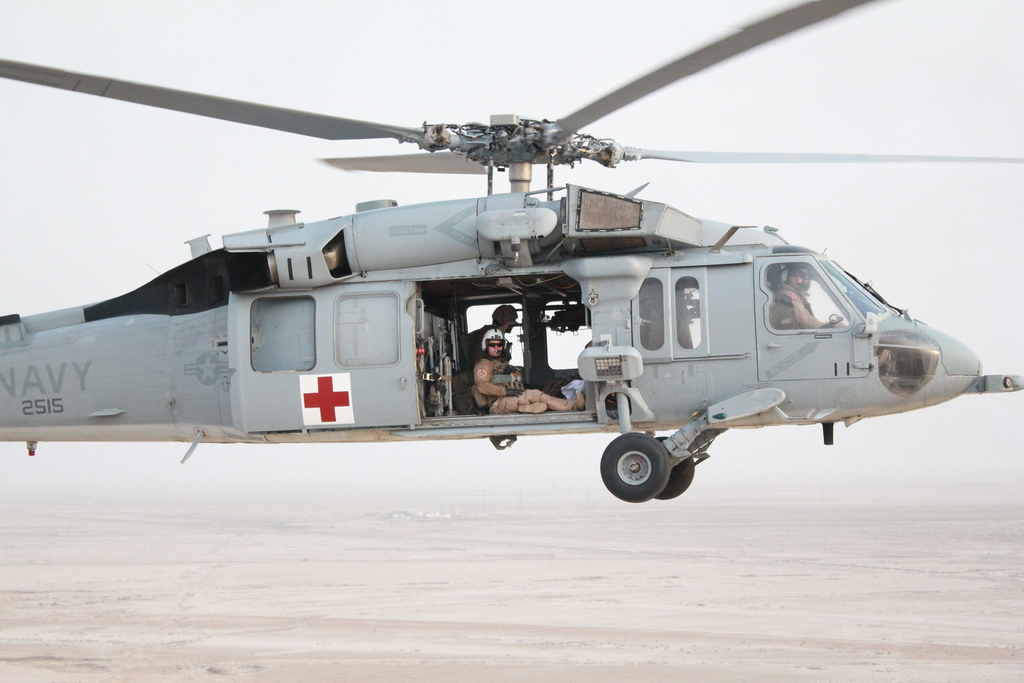person: (507, 376, 588, 413)
